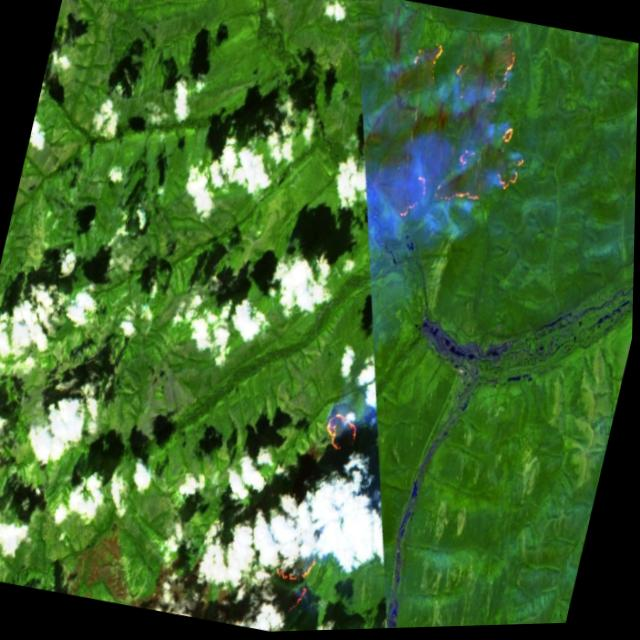fire: (367, 8, 567, 253), (260, 534, 330, 634), (318, 399, 369, 462)
